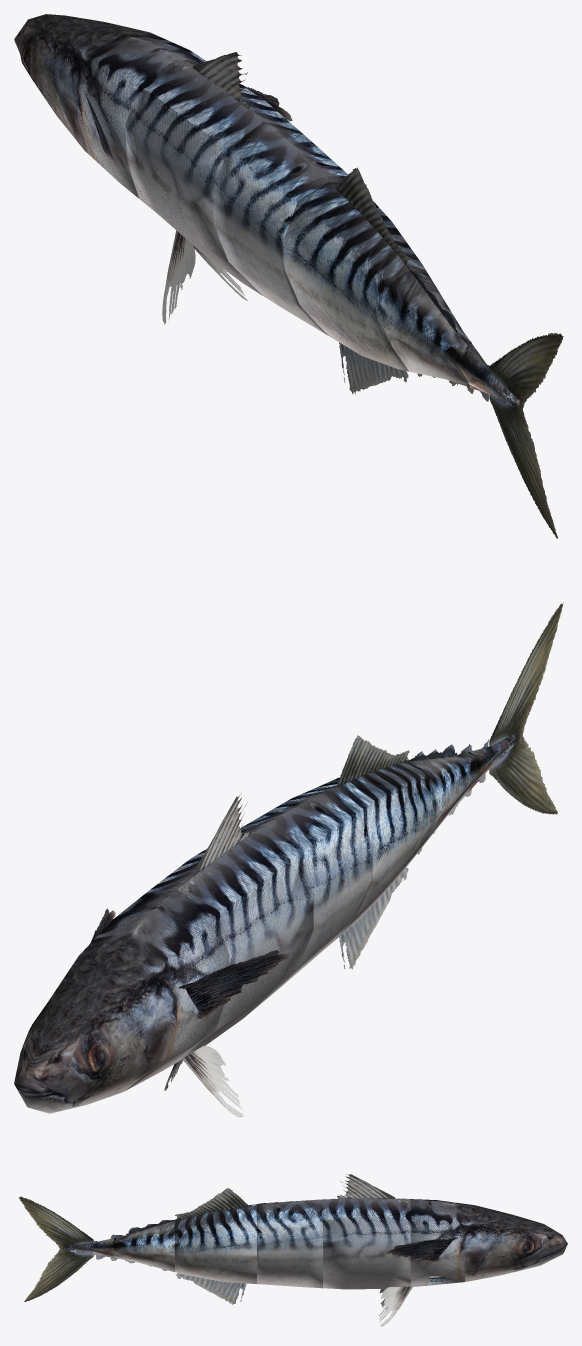
The model's file is sectioned_mackerel_3_piece.fbx.
3 renders of one model, top to bottom at view 1: azimuth 30°, elevation 25°; view 2: azimuth 150°, elevation 25°; view 3: azimuth 270°, elevation 25°, orthographic. The views are drawn at different scales.
Parts seen in each view (by area): view 1: mackerel.003, mackerel.005, mackerel.001; view 2: mackerel.001, mackerel.003, mackerel.005; view 3: mackerel.003, mackerel.005, mackerel.001.
Part boxes in pixels (x1,y1,x2,y2): mackerel.003: (125,52,348,335); mackerel.005: (284,167,563,538); mackerel.001: (14,14,292,198); mackerel.001: (14,889,292,1113); mackerel.003: (140,791,372,1116); mackerel.005: (299,602,563,969); mackerel.003: (257,1174,412,1326); mackerel.005: (18,1188,256,1304); mackerel.001: (384,1199,567,1286).
Size of the model in its own units: 0.1696 by 0.2556 by 0.8493.
